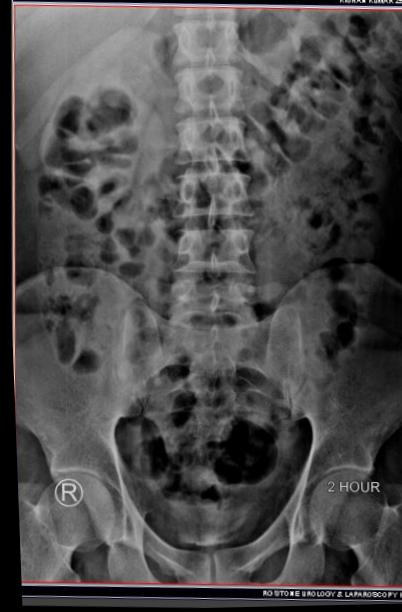vertebrae: (164, 63, 245, 119)
